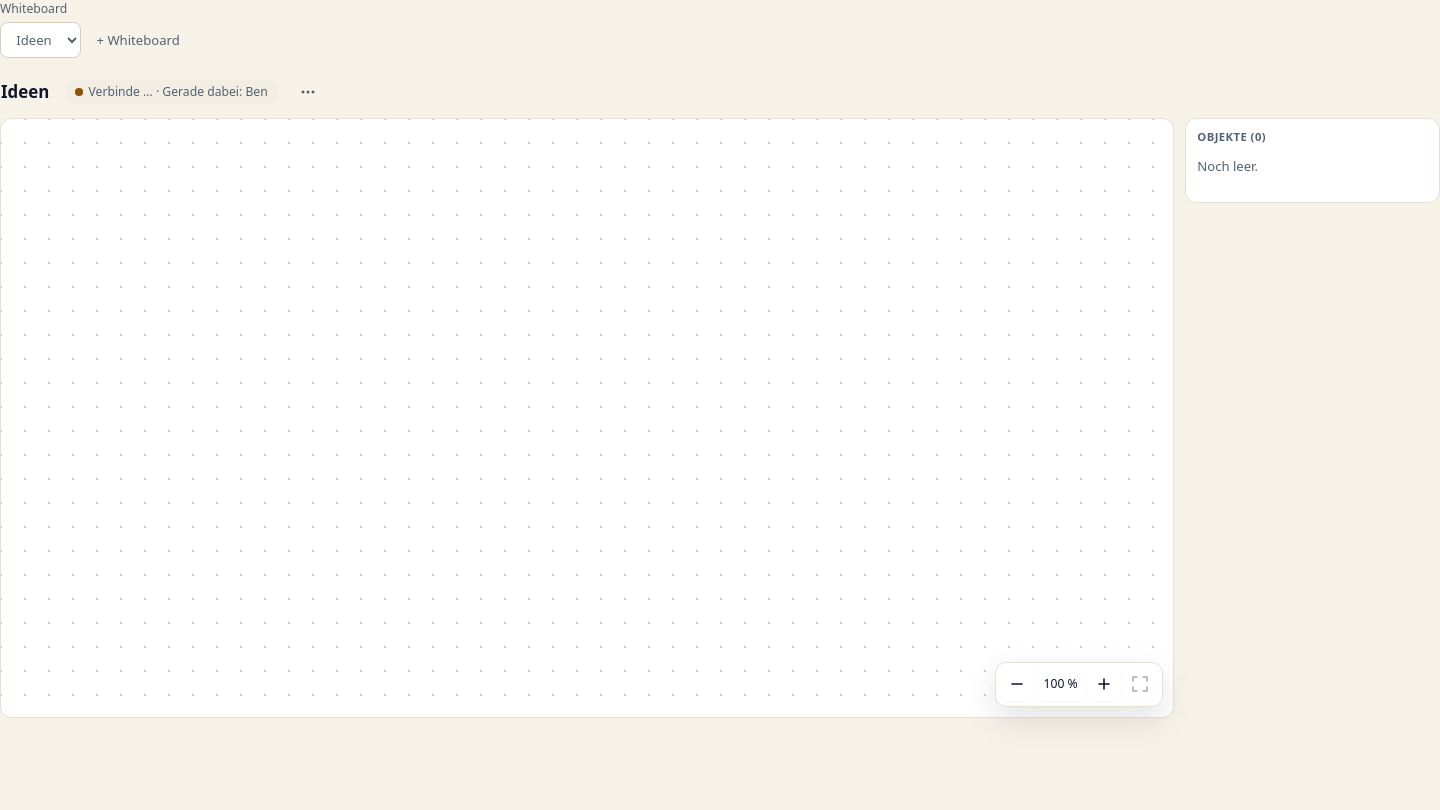
Test case: WhiteboardPanel › creates a whiteboard and opens it
Expected: the heading "Ideen" is shown, [0,80,50,103]
Click the button "+ Whiteboard": (138, 41) [84,23,192,58]
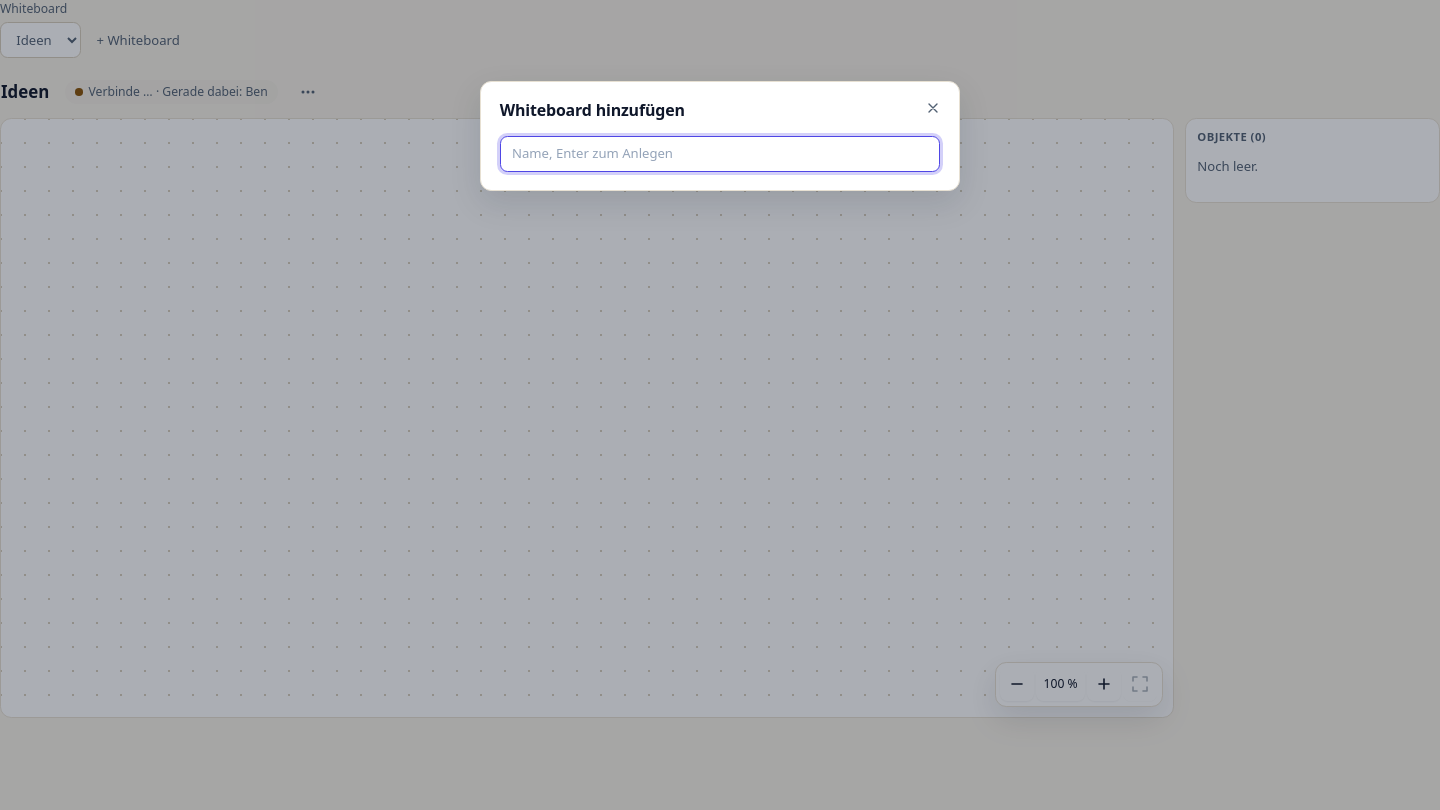
In the field named "Neues Whiteboard": (720, 154) [500,136,940,172], type "Workshop"
Then press Enter
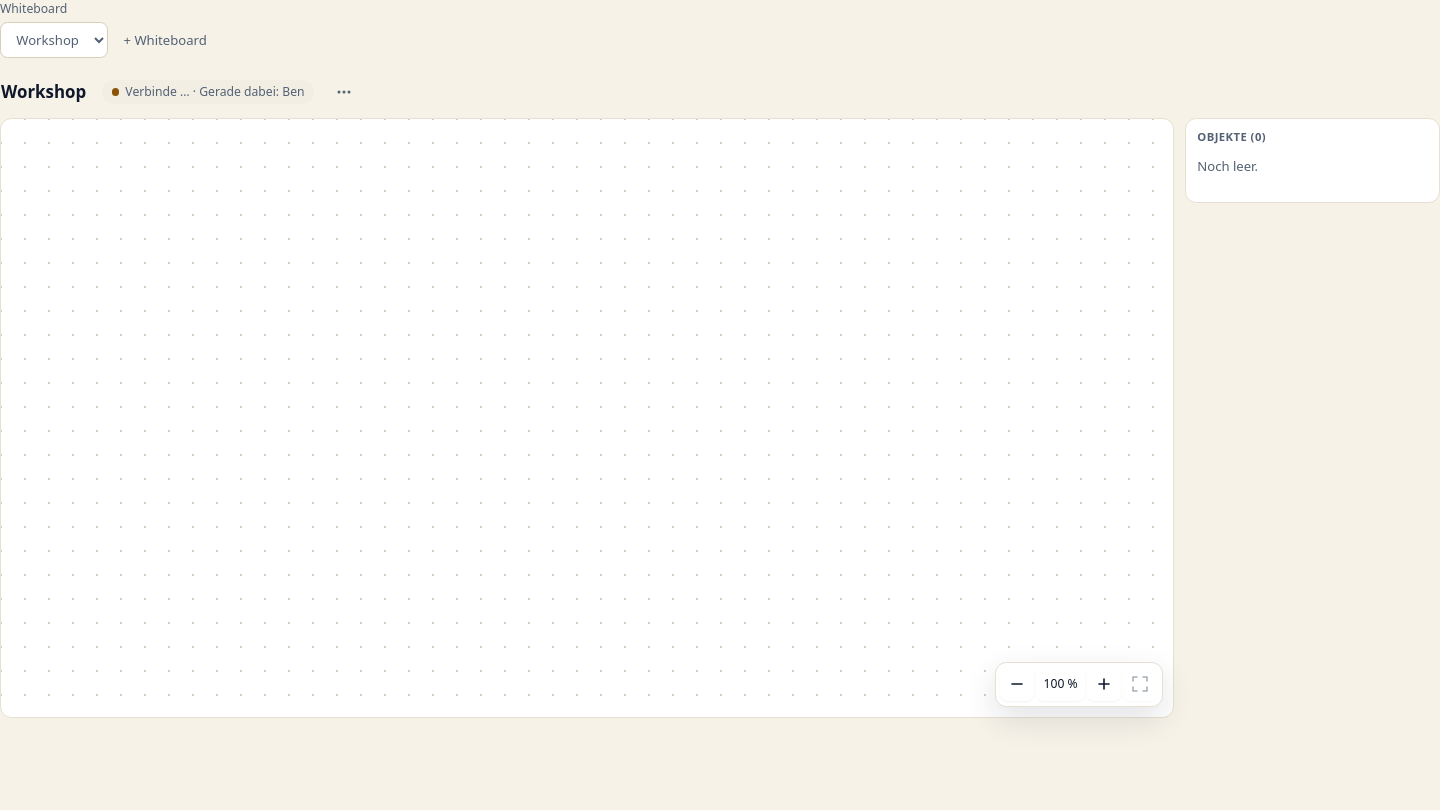
Expected: the heading "Workshop" is shown, [0,80,87,103]
